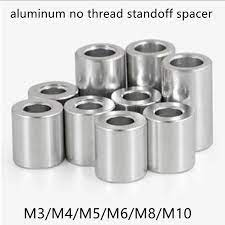No thread: (165, 53, 208, 70), (146, 106, 191, 122), (118, 87, 155, 104), (22, 101, 56, 119), (82, 46, 117, 62), (131, 42, 168, 57), (105, 116, 137, 129), (39, 85, 68, 99), (74, 101, 102, 114)
